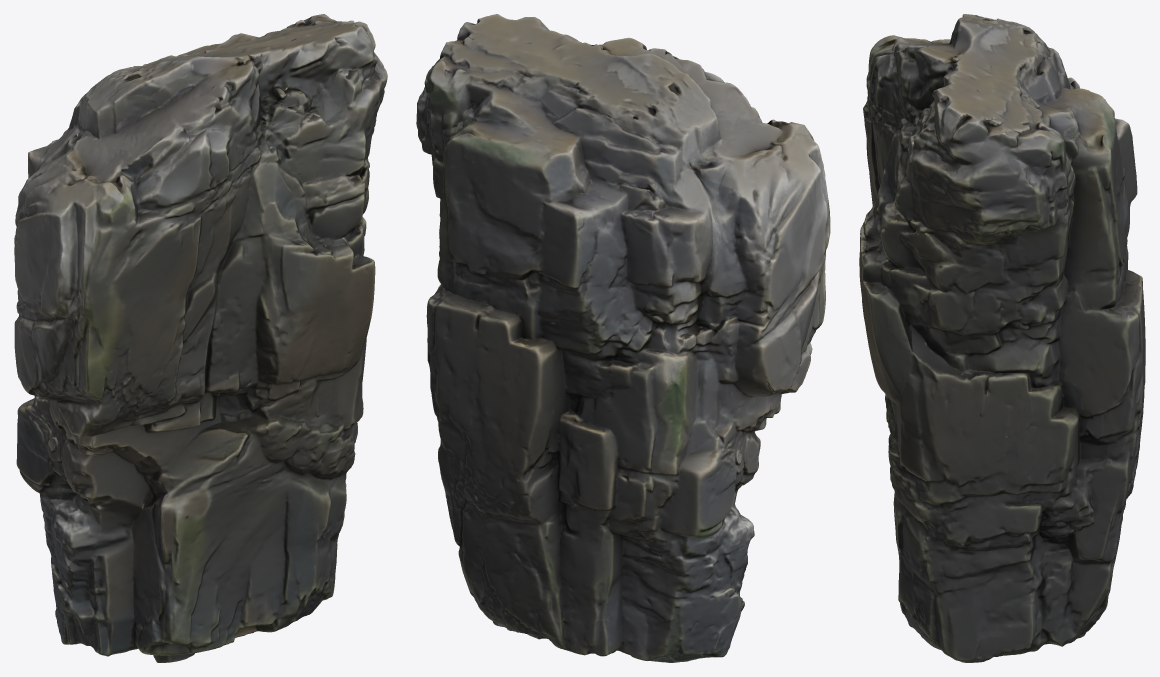
The model's file is Meshy_AI_Stone_1015170300_texture.fbx.
3 views of the same model, side by side, from view 1: azimuth 30°, elevation 25°; view 2: azimuth 150°, elevation 25°; view 3: azimuth 270°, elevation 25° (orthographic). The views are drawn at different scales.
Visible parts, largest first — view 1: Mesh_0; view 2: Mesh_0; view 3: Mesh_0.
Part boxes in pixels (x1,y1,x2,y2): Mesh_0: (14, 14, 387, 662); Mesh_0: (416, 14, 830, 662); Mesh_0: (859, 14, 1145, 662).
Bounding box in the file's own units: 119 × 190 × 81.94.
Materials: 1 (1 with a texture image).
